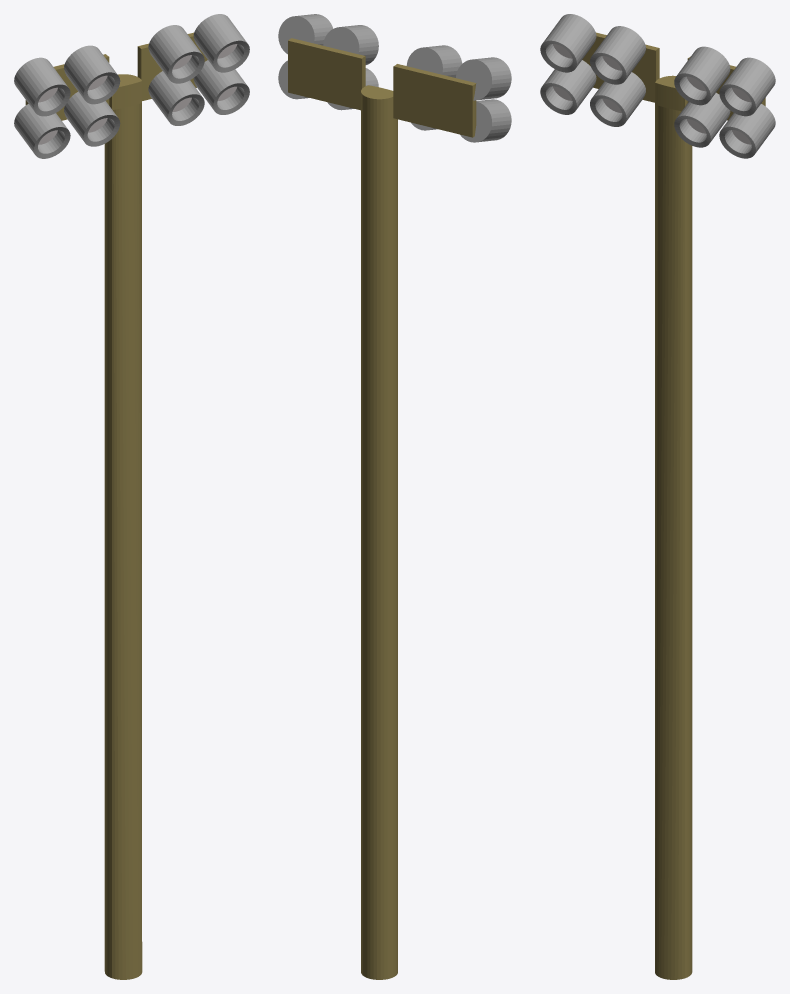
File: LightPole.fbx
3 renders of one model, left to right at view 1: azimuth 30°, elevation 25°; view 2: azimuth 150°, elevation 25°; view 3: azimuth 330°, elevation 25°, orthographic.
Parts seen in each view (by area): view 1: Cylinder; view 2: Cylinder; view 3: Cylinder.
Part boxes in pixels (x1,y1,x2,y2): Cylinder: (14,14,249,979); Cylinder: (278,14,511,979); Cylinder: (540,14,775,979).
Size of the model in its own units: 969 by 4041 by 270.
